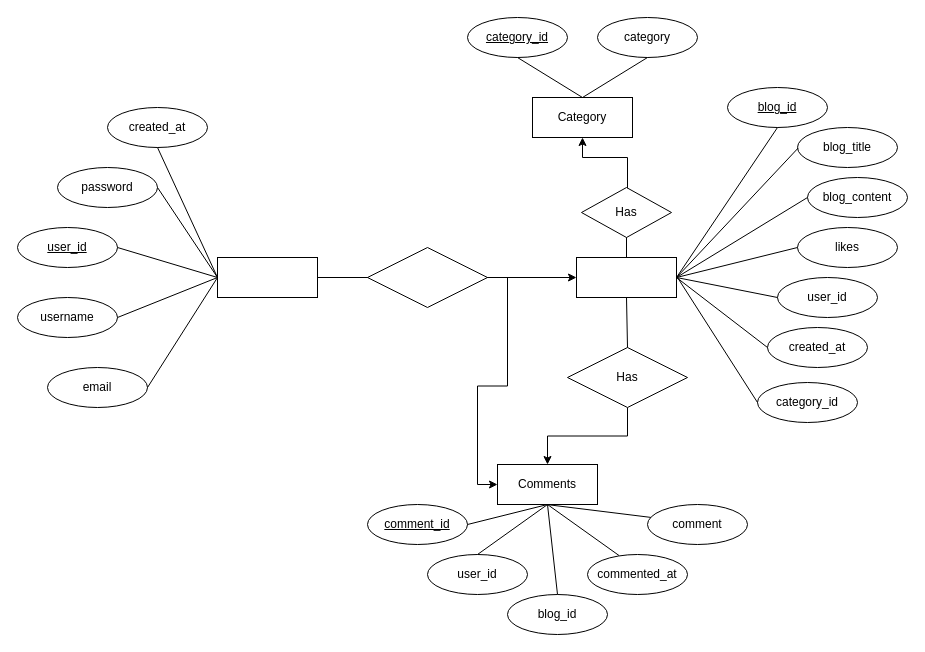
This 925x652 diagram has some shape labels left out. The centre of each missing label's shape, as x and y in pixels:
"Blogs" goes at point (626, 277).
"Posts" goes at point (427, 277).
"User" goes at point (267, 277).
